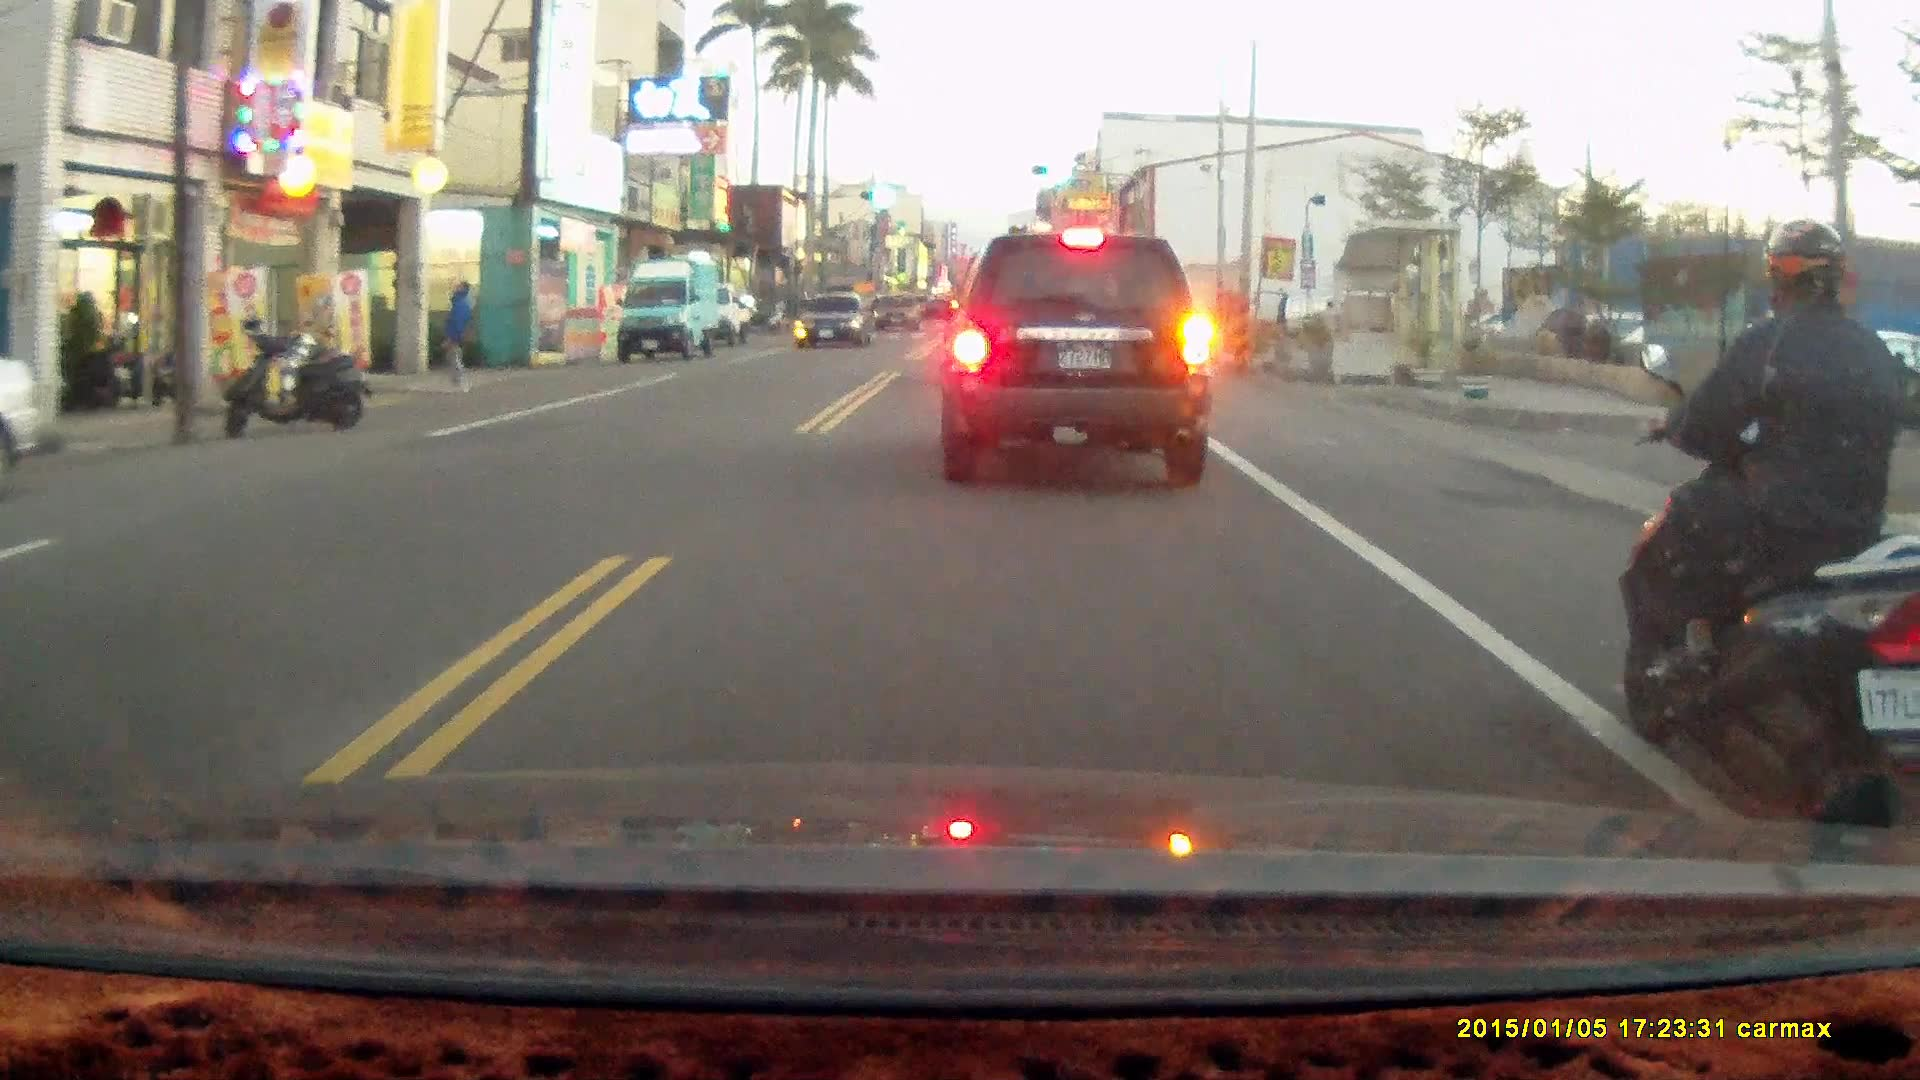pedestrian: (443, 277, 477, 393)
rider: (1619, 218, 1920, 846)
vehicle: (935, 228, 1217, 482), (614, 261, 724, 366), (1, 358, 54, 504), (796, 294, 880, 351), (873, 294, 923, 333)
